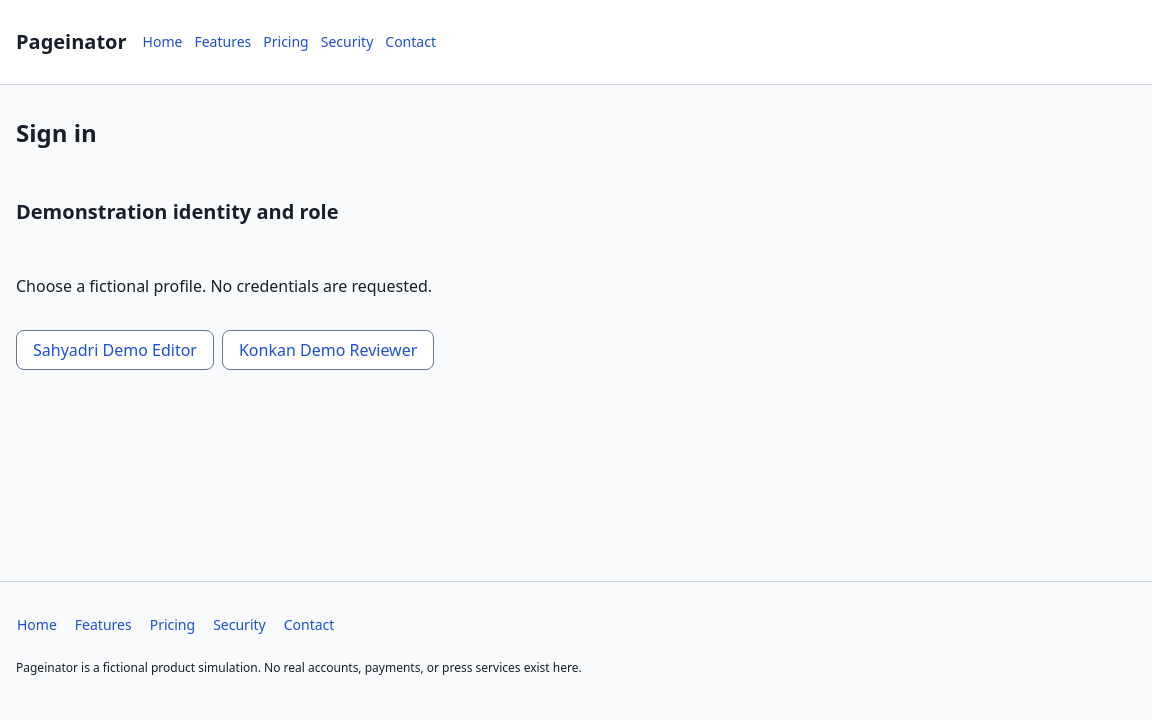
it: UI004 auth and public routes › signs in as reviewer and replaces the route with the canonical workspace
Click the button "Konkan Demo Reviewer" at x=328, y=350, box [222,330,434,370]
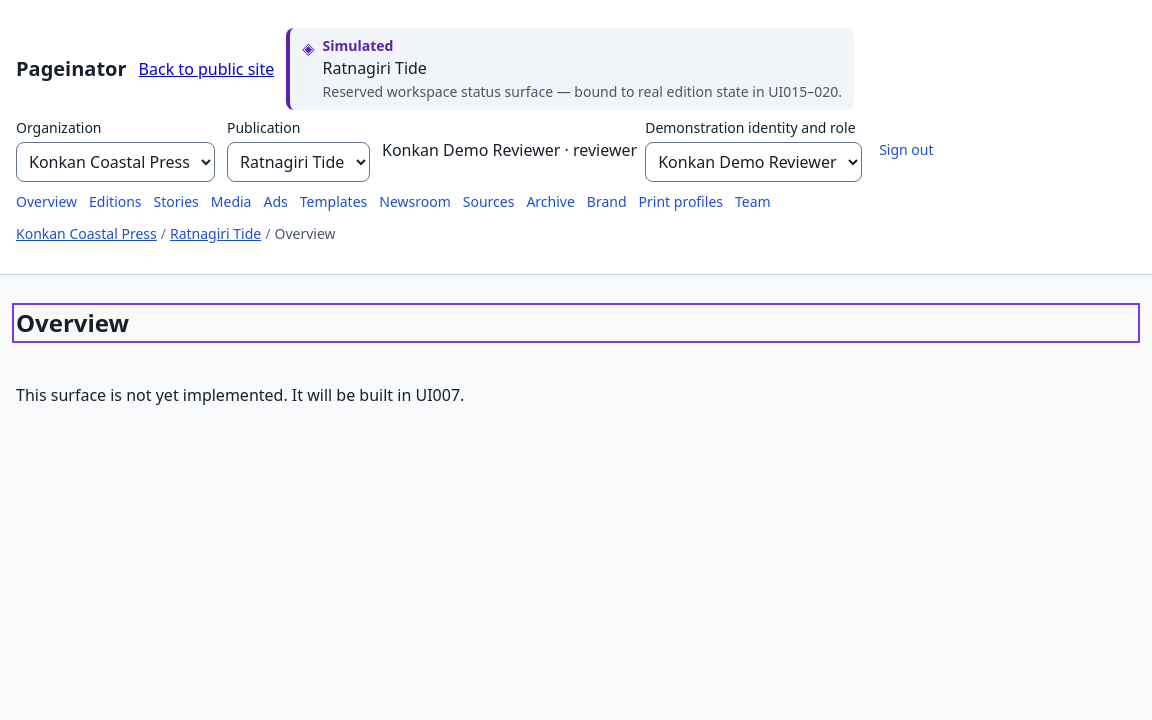
Expected: the text "Konkan Demo Reviewer" is shown, [382,139,560,161]
Now the heading "Overview" is shown, box [16,306,129,339]
